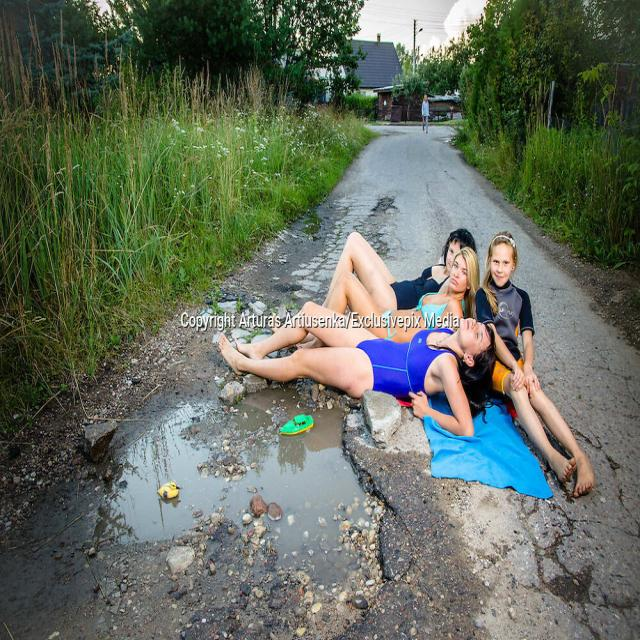Pothole: (113, 357, 435, 640)
